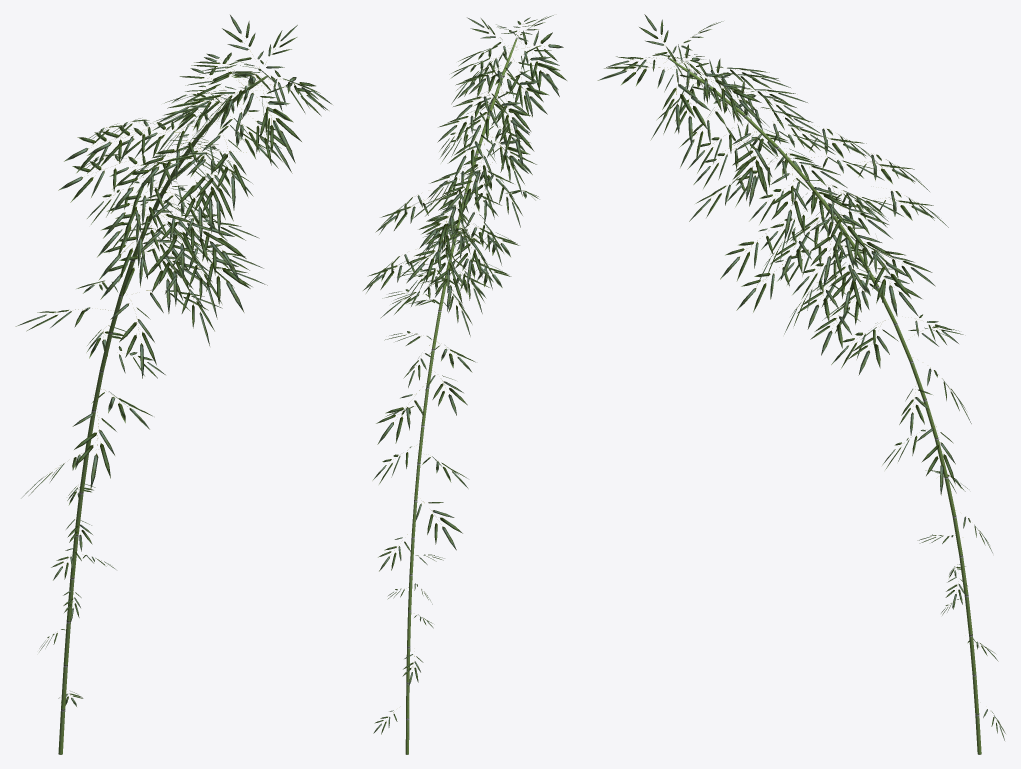
File: POHON BAMBUU.fbx
3 renders of one model, left to right at view 1: azimuth 30°, elevation 25°; view 2: azimuth 150°, elevation 25°; view 3: azimuth 270°, elevation 25°, orthographic. The views are drawn at different scales.
Parts seen in each view (by area): view 1: Trunk.001, Leaves.002, Leaves.045, Leaves.008, Leaves.051, Leaves.060, Leaves.011, Leaves.042, Leaves.052, Leaves.056, Leaves.013; view 2: Trunk.001, Leaves.087, Leaves.007, Leaves.027, Leaves.020, Leaves.023, Leaves.058, Leaves.081, Leaves.082, Leaves.071, Leaves.080, Leaves.073; view 3: Trunk.001.
Boxes of the visible parts, box(x1,y1,x2,y2) form: Trunk.001: box(58, 75, 267, 754); Leaves.002: box(72, 412, 116, 489); Leaves.045: box(188, 244, 250, 312); Leaves.008: box(110, 303, 156, 378); Leaves.051: box(202, 135, 248, 210); Leaves.060: box(187, 159, 233, 234); Leaves.011: box(170, 215, 234, 269); Leaves.042: box(182, 204, 246, 281); Leaves.052: box(136, 134, 197, 194); Leaves.056: box(98, 221, 159, 282); Leaves.013: box(151, 203, 197, 278); Trunk.001: box(405, 37, 517, 754); Leaves.087: box(415, 501, 462, 550); Leaves.007: box(376, 386, 423, 444); Leaves.027: box(442, 162, 492, 212); Leaves.020: box(405, 238, 454, 283); Leaves.023: box(418, 205, 467, 248); Leaves.058: box(453, 229, 485, 286); Leaves.081: box(507, 69, 549, 116); Leaves.082: box(488, 90, 531, 137); Leaves.071: box(491, 110, 534, 166); Leaves.080: box(516, 45, 560, 90); Leaves.073: box(505, 59, 543, 117); Trunk.001: box(667, 57, 981, 754).
Size of the model in its own units: 10665 by 48522 by 24185.
